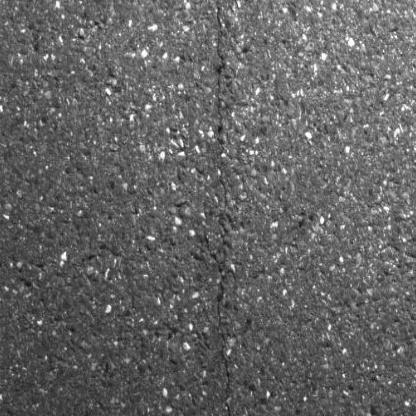Cracks: (209, 0, 244, 416)
